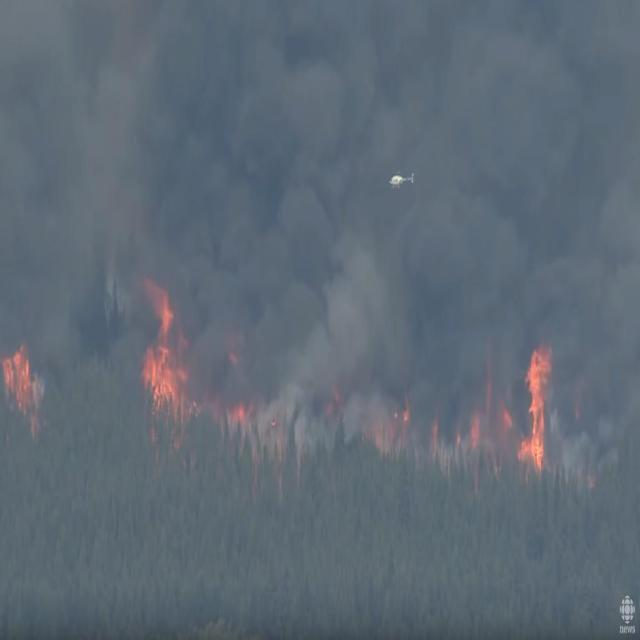Fire: (139, 280, 193, 437), (515, 338, 561, 482), (3, 338, 48, 436)
